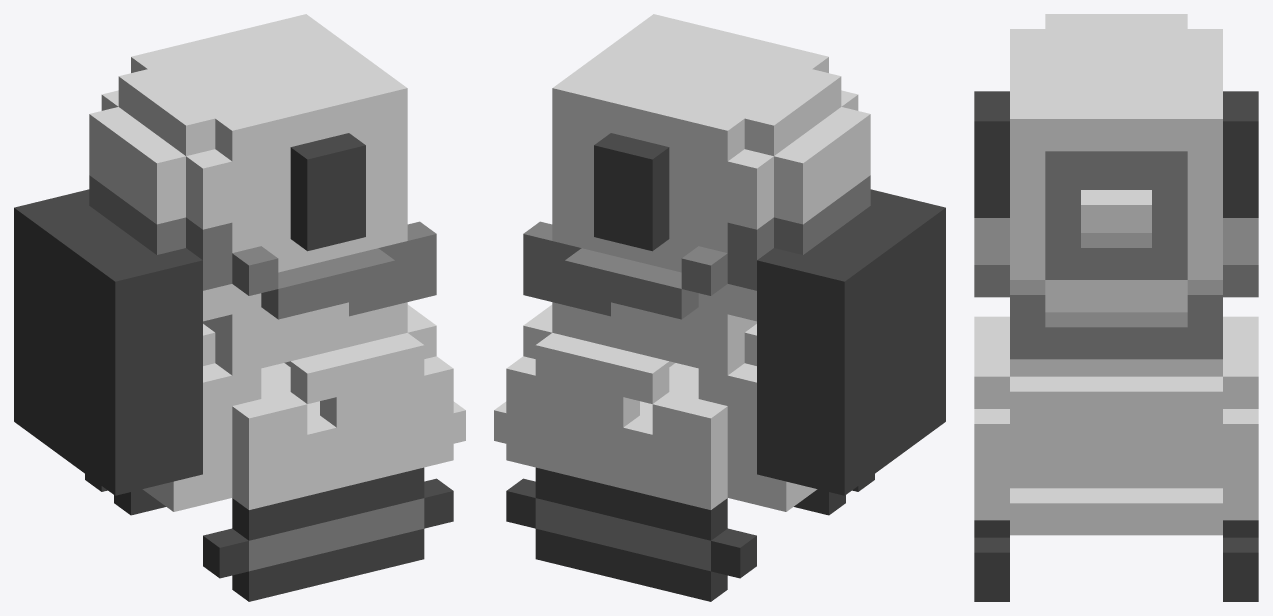
File: robot-3.obj
3 renders of one model, left to right at view 1: azimuth 30°, elevation 25°; view 2: azimuth 150°, elevation 25°; view 3: azimuth 270°, elevation 25°, orthographic. The views are drawn at different scales.
Bounding box in the file's own units: 1.2 × 1.5 × 0.8.
1 material, 1 textured.
